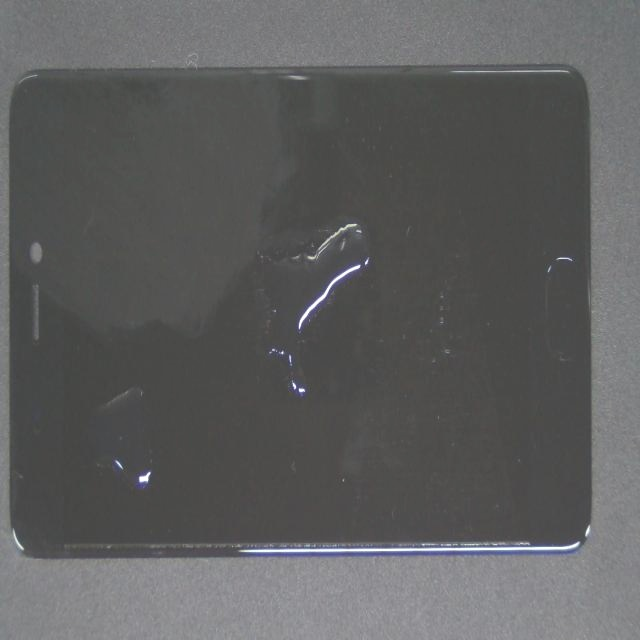oil: (128, 176, 443, 595), (102, 227, 225, 602)
